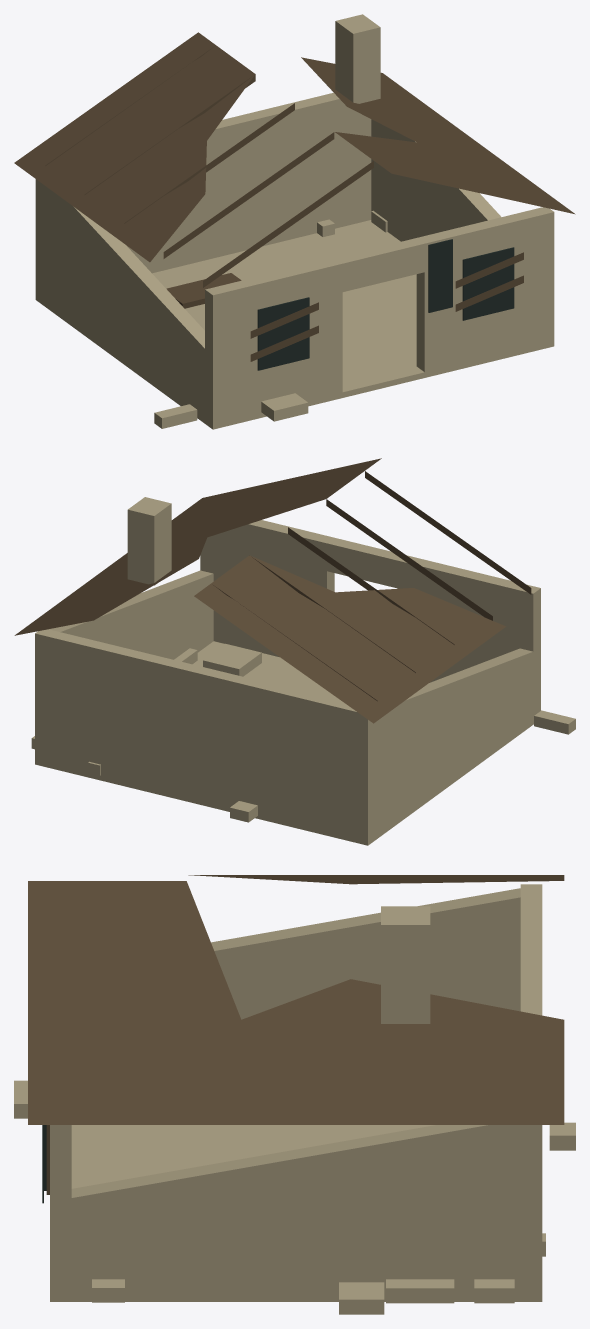
File: coastal_house.glb
3 views of the same model, one above another, from view 1: azimuth 30°, elevation 25°; view 2: azimuth 150°, elevation 25°; view 3: azimuth 270°, elevation 25° (orthographic). The views are drawn at different scales.
Visible parts, largest first — view 1: collapsed roof west, WALL_back.003, WALL_side.002, FLOOR_house, WALL_front.004, WALL_front.005, broken roof east, WALL_side.003, chimney, WALL_door_lintel.001, empty window, empty window.001 (+11 smaller); view 2: WALL_back.003, collapsed roof west, WALL_side.002, broken roof east, WALL_side.003, WALL_front.004, WALL_front.005, FLOOR_house, chimney, WALL_door_lintel.001, fallen masonry.015, exposed rafter.004 (+3 smaller); view 3: broken roof east, WALL_side.003, WALL_side.002, FLOOR_house, WALL_back.003, chimney, WALL_front.005, collapsed roof west, fallen masonry.003, fallen masonry.001, fallen masonry, fallen masonry.011 (+1 smaller).
Part boxes in pixels (x1=…): collapsed roof west: x1=14, y1=32, x2=255, y2=262; WALL_back.003: x1=35, y1=92, x2=371, y2=299; WALL_side.002: x1=35, y1=180, x2=226, y2=423; FLOOR_house: x1=35, y1=220, x2=554, y2=429; WALL_front.004: x1=205, y1=258, x2=342, y2=423; WALL_front.005: x1=416, y1=207, x2=554, y2=372; broken roof east: x1=301, y1=57, x2=575, y2=214; WALL_side.003: x1=371, y1=119, x2=554, y2=339; chimney: x1=335, y1=14, x2=380, y2=103; WALL_door_lintel.001: x1=335, y1=238, x2=424, y2=291; empty window: x1=257, y1=297, x2=309, y2=370; empty window.001: x1=462, y1=247, x2=514, y2=320; WALL_back.003: x1=35, y1=629, x2=375, y2=839; collapsed roof west: x1=194, y1=555, x2=505, y2=723; WALL_side.002: x1=354, y1=648, x2=540, y2=839; broken roof east: x1=14, y1=458, x2=381, y2=635; WALL_side.003: x1=35, y1=570, x2=213, y2=757; WALL_front.004: x1=406, y1=557, x2=540, y2=718; WALL_front.005: x1=200, y1=520, x2=334, y2=657; FLOOR_house: x1=35, y1=641, x2=533, y2=845; chimney: x1=127, y1=497, x2=171, y2=585; WALL_door_lintel.001: x1=327, y1=537, x2=413, y2=588; fallen masonry.015: x1=203, y1=643, x2=261, y2=676; exposed rafter.004: x1=365, y1=471, x2=531, y2=594; broken roof east: x1=28, y1=881, x2=564, y2=1124; WALL_side.003: x1=50, y1=1125, x2=542, y2=1294; WALL_side.002: x1=211, y1=888, x2=520, y2=1019; FLOOR_house: x1=50, y1=1125, x2=542, y2=1301; WALL_back.003: x1=520, y1=884, x2=542, y2=1294; chimney: x1=381, y1=906, x2=430, y2=1023; WALL_front.005: x1=50, y1=1125, x2=71, y2=1294; collapsed roof west: x1=188, y1=875, x2=564, y2=884; fallen masonry.003: x1=386, y1=1279, x2=454, y2=1303; fallen masonry.001: x1=339, y1=1282, x2=384, y2=1314; fallen masonry: x1=474, y1=1279, x2=514, y2=1303; fallen masonry.011: x1=92, y1=1279, x2=124, y2=1302.
Size of the model in its own units: 12.15 by 6.86 by 10.27.
